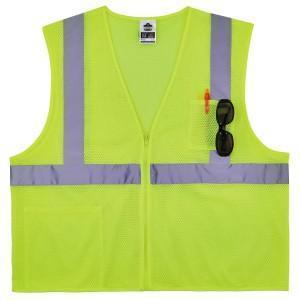vest: (6, 5, 291, 293)
